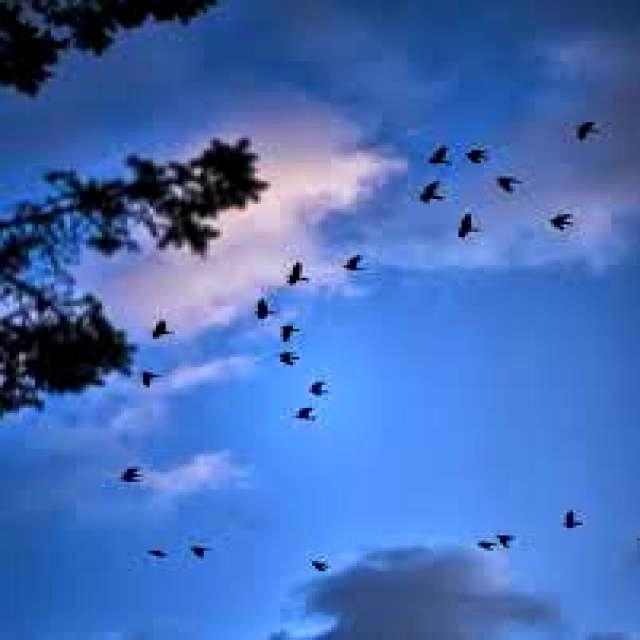bird: (150, 298, 194, 357), (99, 456, 153, 504), (139, 522, 185, 572), (178, 522, 220, 576), (121, 361, 185, 396), (456, 199, 494, 255), (488, 514, 526, 570), (462, 126, 504, 174), (408, 132, 450, 178), (240, 275, 272, 334), (491, 162, 528, 213), (564, 115, 606, 158), (546, 207, 591, 244), (268, 343, 316, 376), (344, 231, 372, 287), (552, 501, 591, 541), (272, 315, 317, 348), (414, 174, 449, 216), (304, 546, 338, 584), (298, 371, 338, 402), (282, 255, 317, 288), (290, 404, 330, 431), (473, 516, 493, 568)
